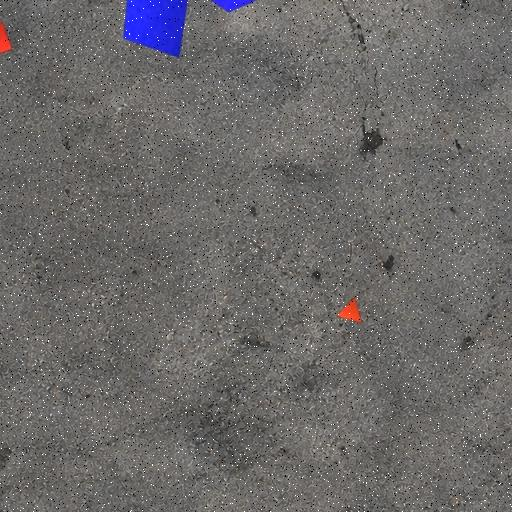BLUE_SQUARE: (122, 0, 190, 58)
